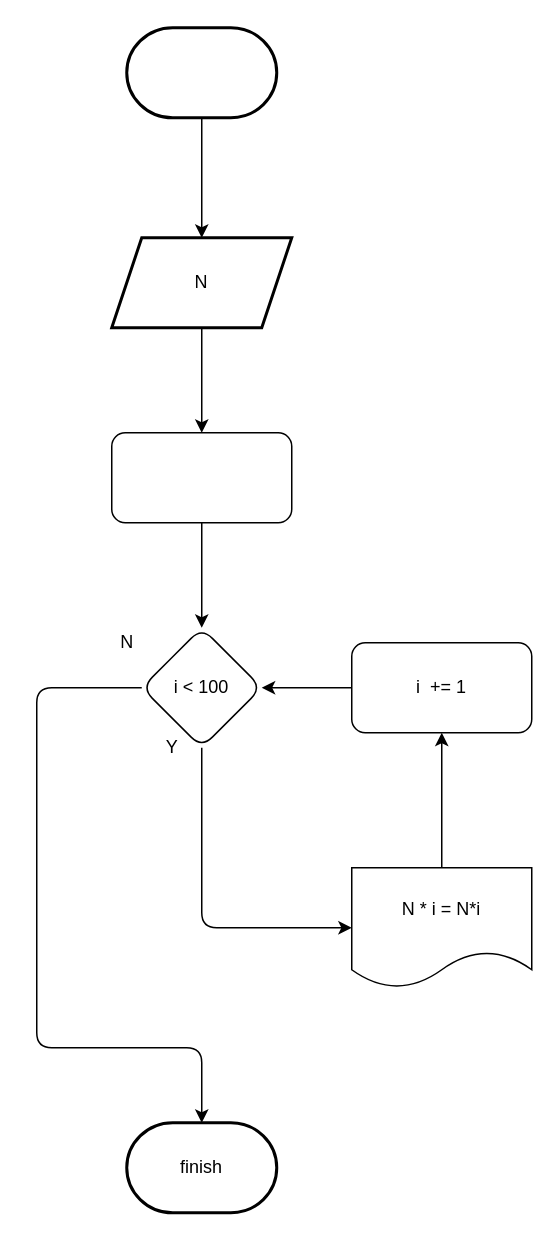
Image size: 558x1239. Some labels were removed from this diagram. The shapes that lost their labels are listed below. From the top down, each one's centre as x and y in pixels, then its label:
(201,72): start
(201,477): i = 1
